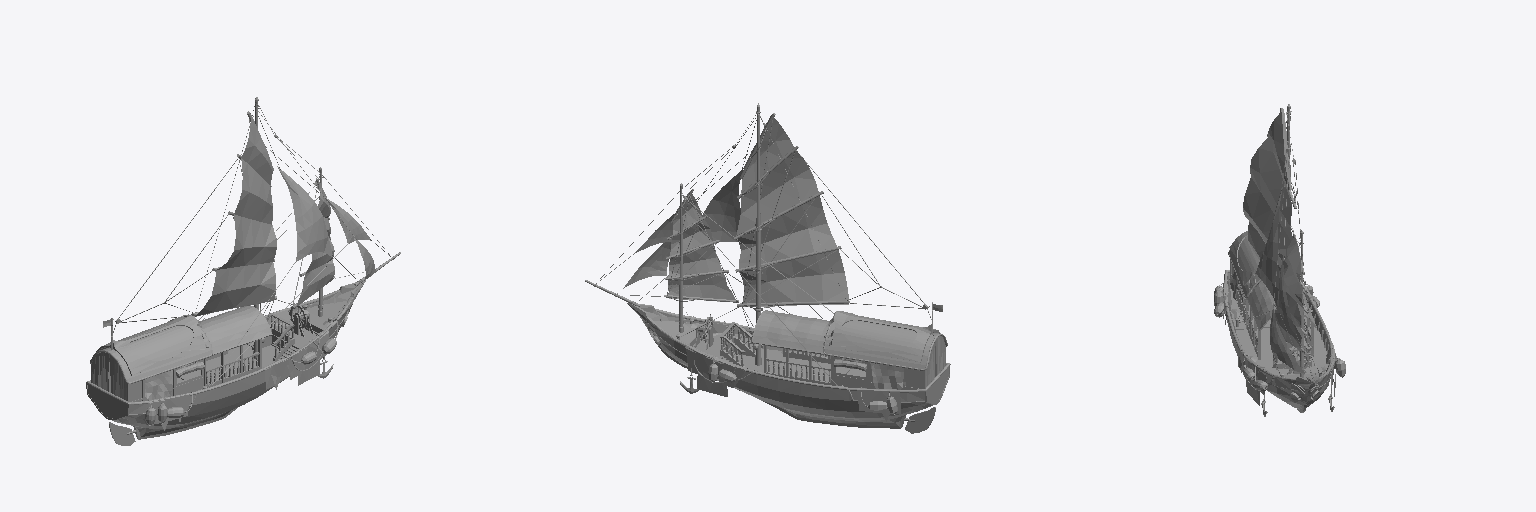
File: ship.obj
3 views of the same model, side by side, from view 1: azimuth 30°, elevation 25°; view 2: azimuth 150°, elevation 25°; view 3: azimuth 270°, elevation 25° (orthographic).
Parts seen in each view (by area): view 1: shipSails_ID177.003, shipBot_ID177.002, shipTop_ID177.001, shipStuff_ID177; view 2: shipSails_ID177.003, shipBot_ID177.002, shipTop_ID177.001, shipStuff_ID177; view 3: shipSails_ID177.003, shipBot_ID177.002, shipTop_ID177.001, shipStuff_ID177.
Boxes of the visible parts, x1,y1,x2,y2 form: shipSails_ID177.003: [103, 97, 400, 399]; shipBot_ID177.002: [86, 280, 365, 445]; shipTop_ID177.001: [91, 286, 356, 401]; shipStuff_ID177: [145, 308, 338, 430]; shipSails_ID177.003: [585, 103, 942, 389]; shipBot_ID177.002: [627, 303, 950, 433]; shipTop_ID177.001: [660, 310, 936, 389]; shipStuff_ID177: [685, 316, 900, 421]; shipSails_ID177.003: [1229, 104, 1322, 386]; shipBot_ID177.002: [1224, 231, 1334, 416]; shipTop_ID177.001: [1227, 260, 1331, 379]; shipStuff_ID177: [1214, 282, 1345, 405].
Size of the model in its own units: 90.14 by 81.39 by 31.56.